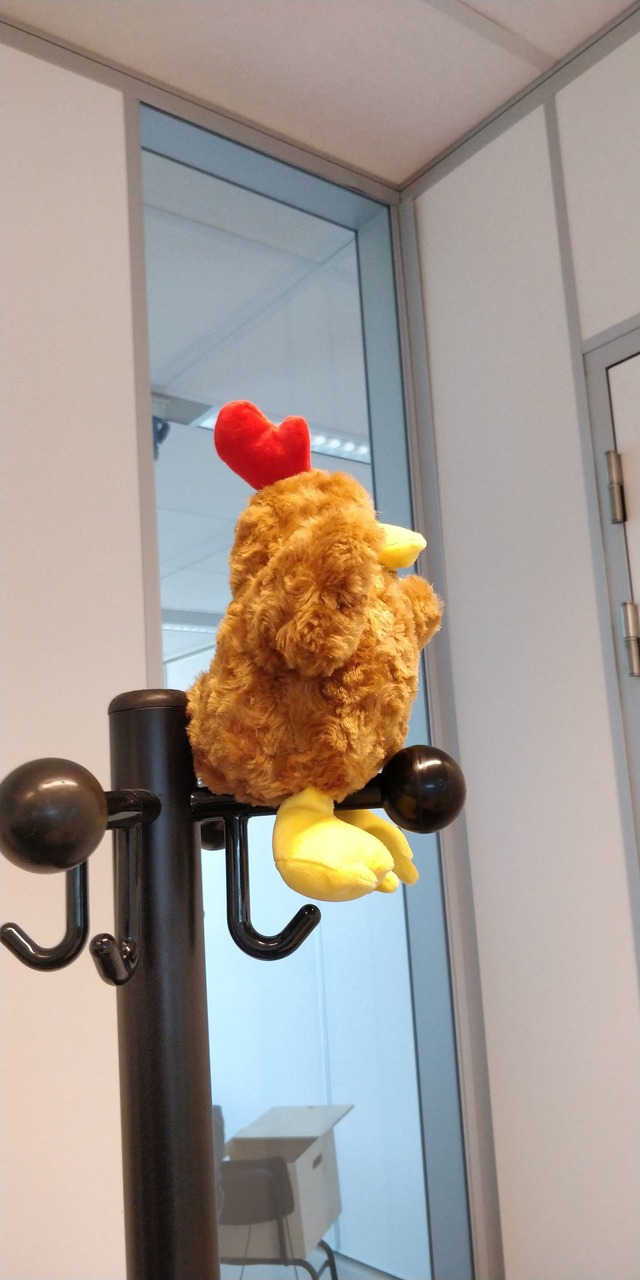fakeChicken: (183, 397, 446, 904)
